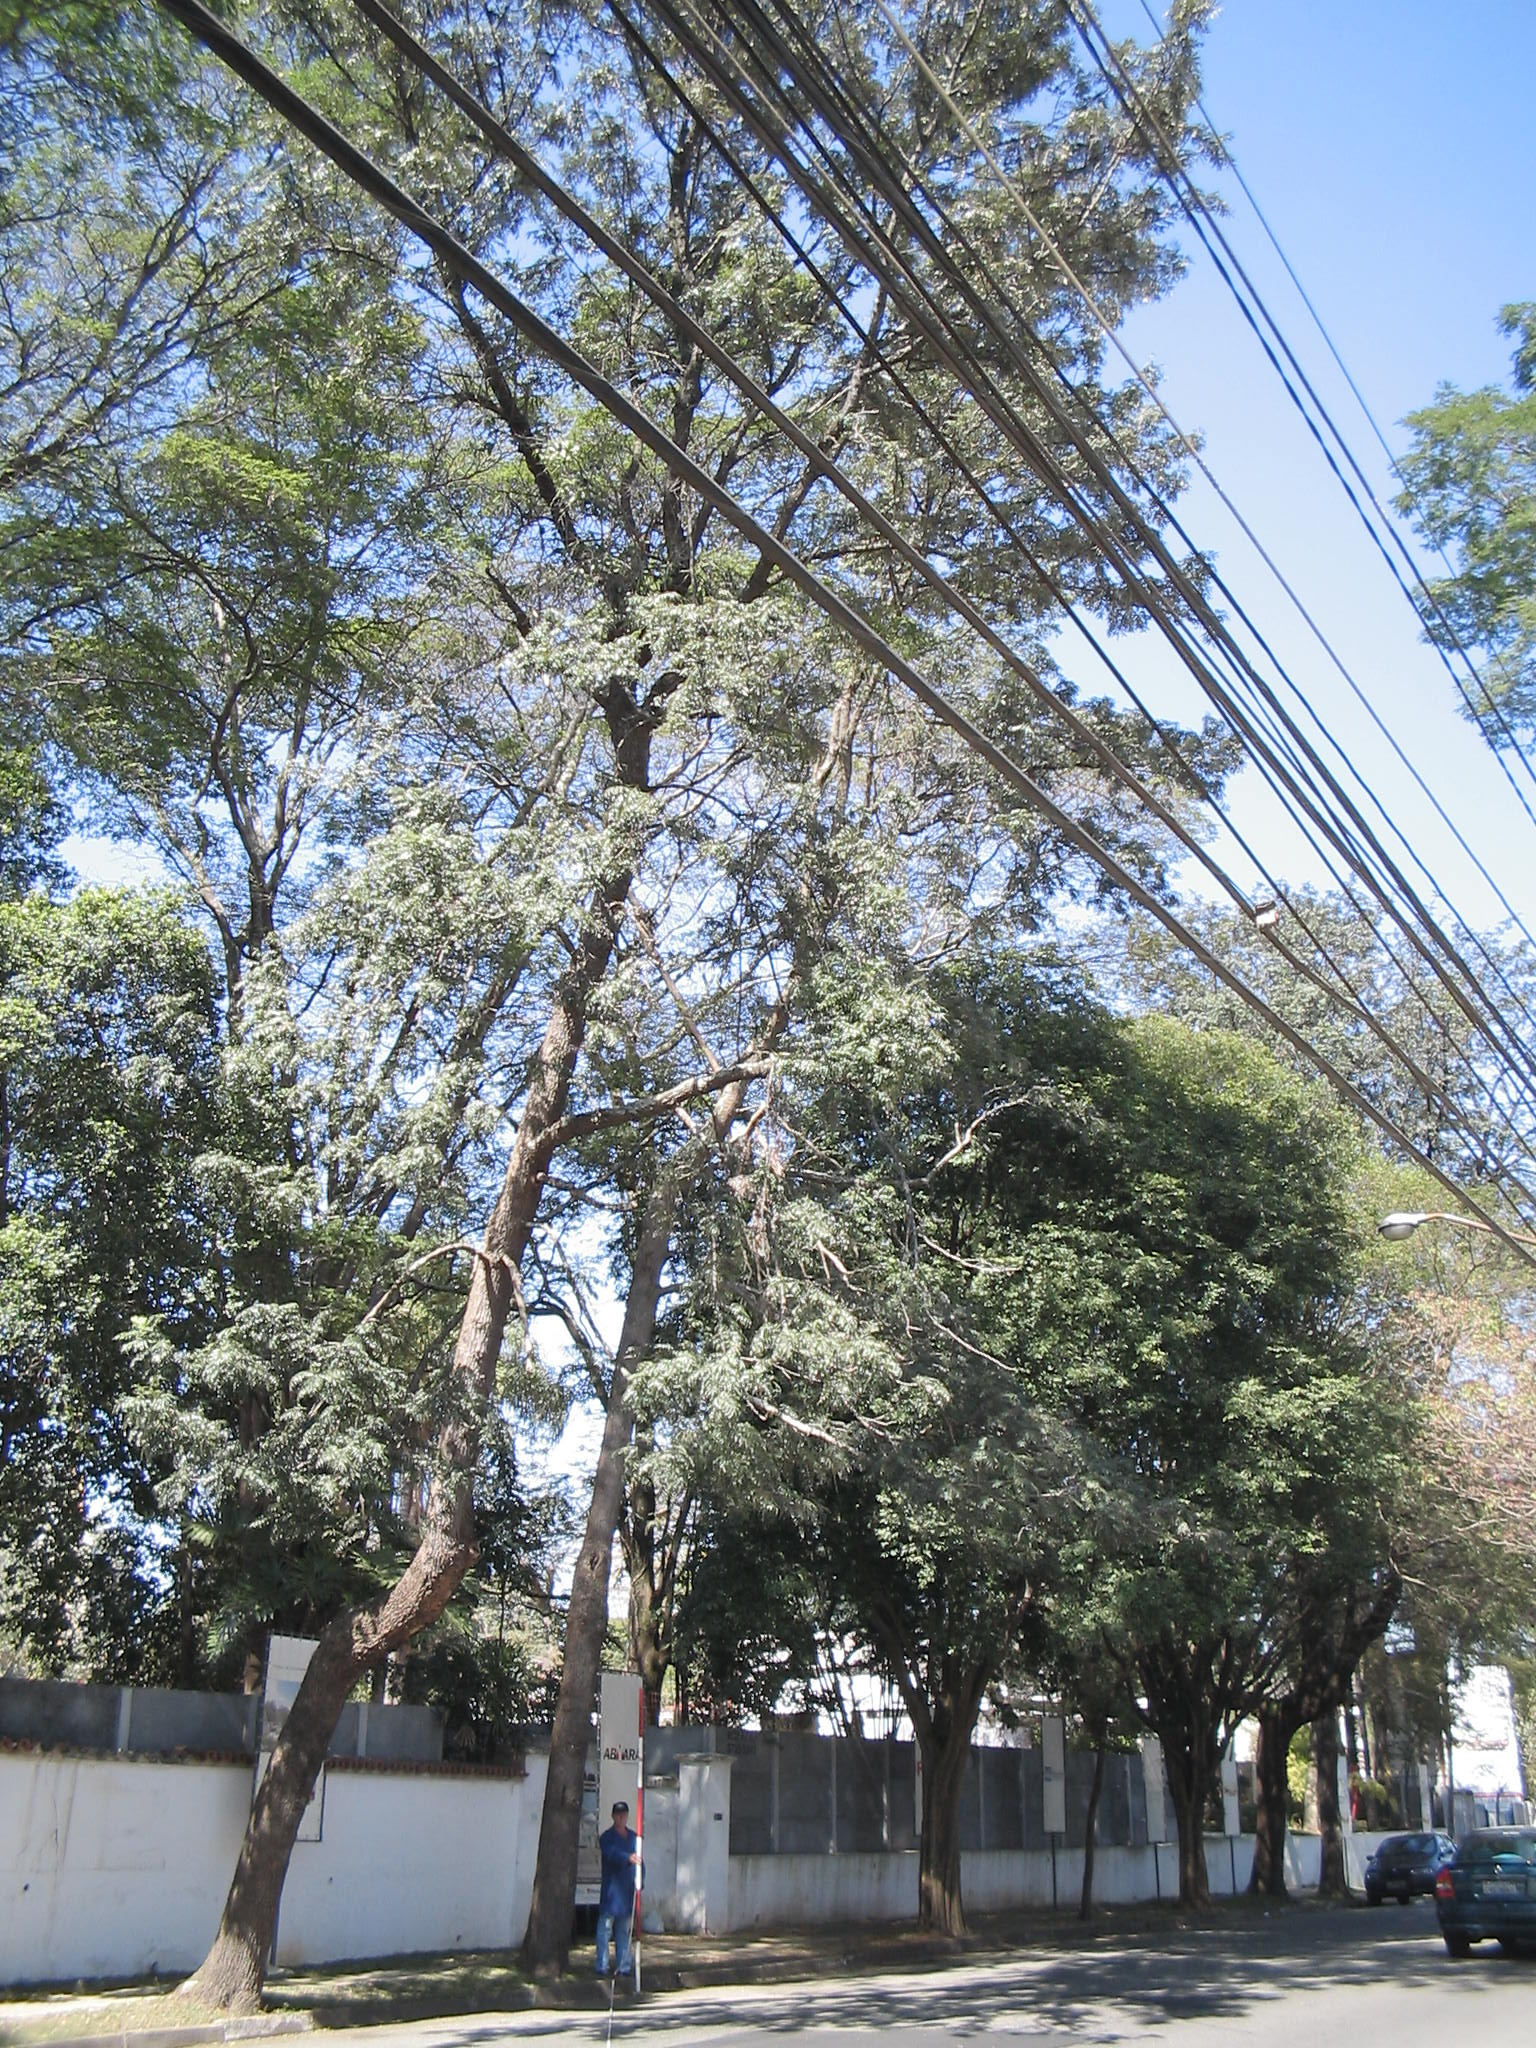crown: (728, 982, 1407, 1724)
stem: (161, 1537, 473, 2014), (870, 1729, 997, 1924), (1228, 1705, 1312, 1908), (1149, 1767, 1225, 1913)
stick: (607, 1692, 671, 2003)
tree: (720, 982, 1407, 1932)
